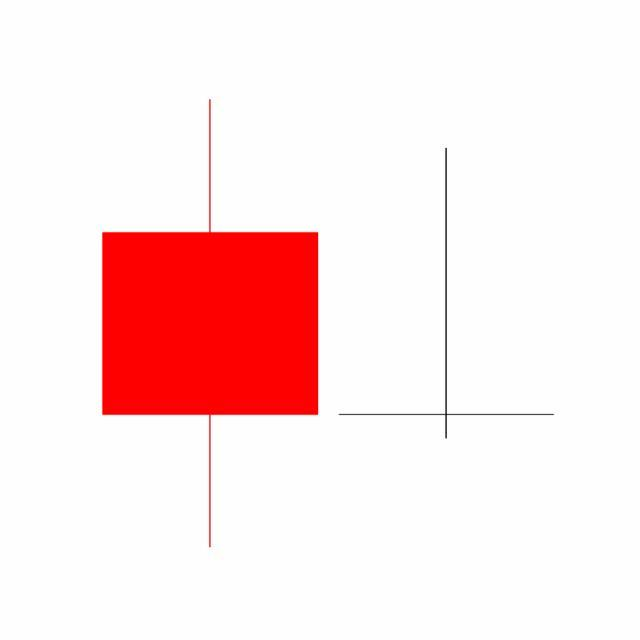Gravestone Doji: (328, 144, 566, 442)
